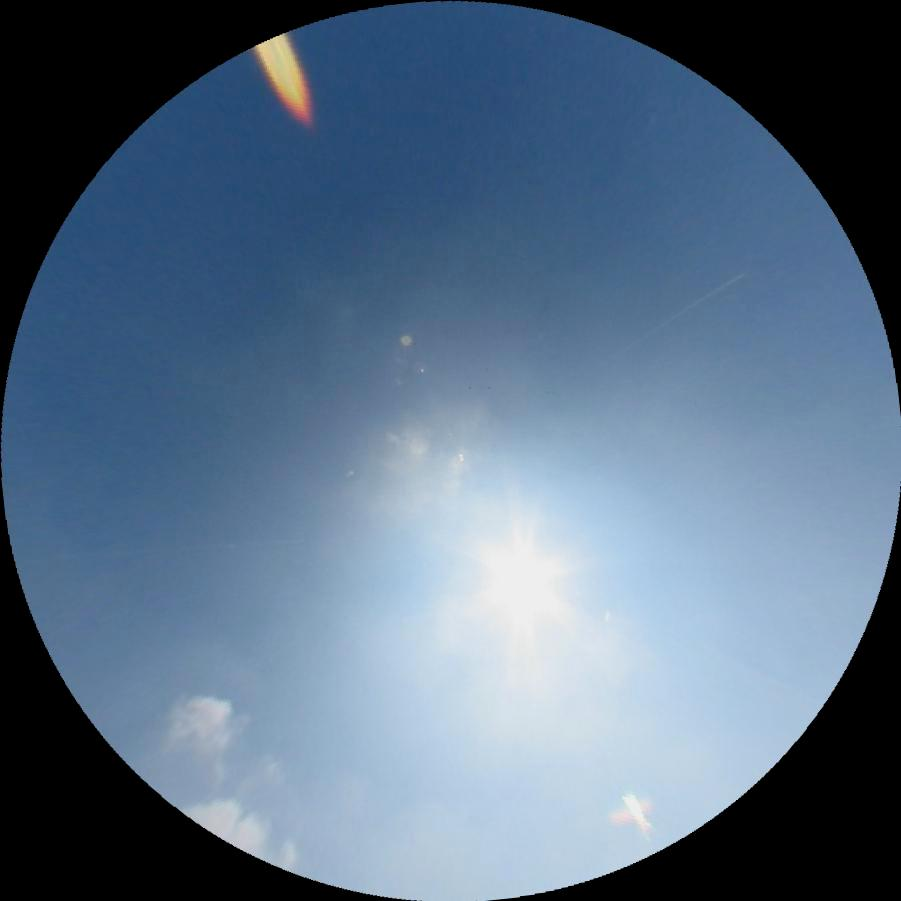contrail young: (610, 271, 743, 357)
sun: (492, 549, 559, 618)
